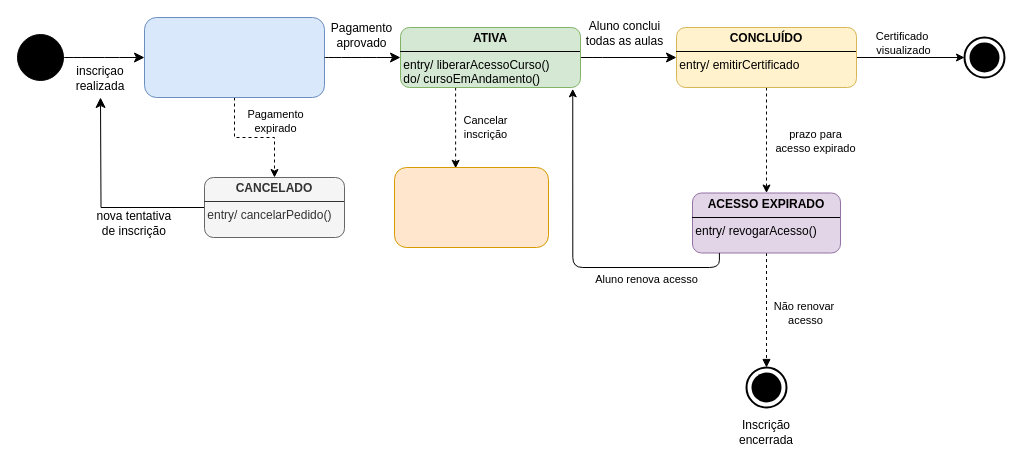
Some shapes in this 1023 by 465 pixel diagram are drawn without their labels. Each missing label, with the centre of its shape:
CANCELADA PELO ALUNO entry/ encerrarinscricao(): the point at 471,207
PENDENTE DE PAGAMENTO entry/ registrar o pedido() do/ aguardandoPagamento(): the point at 234,57
